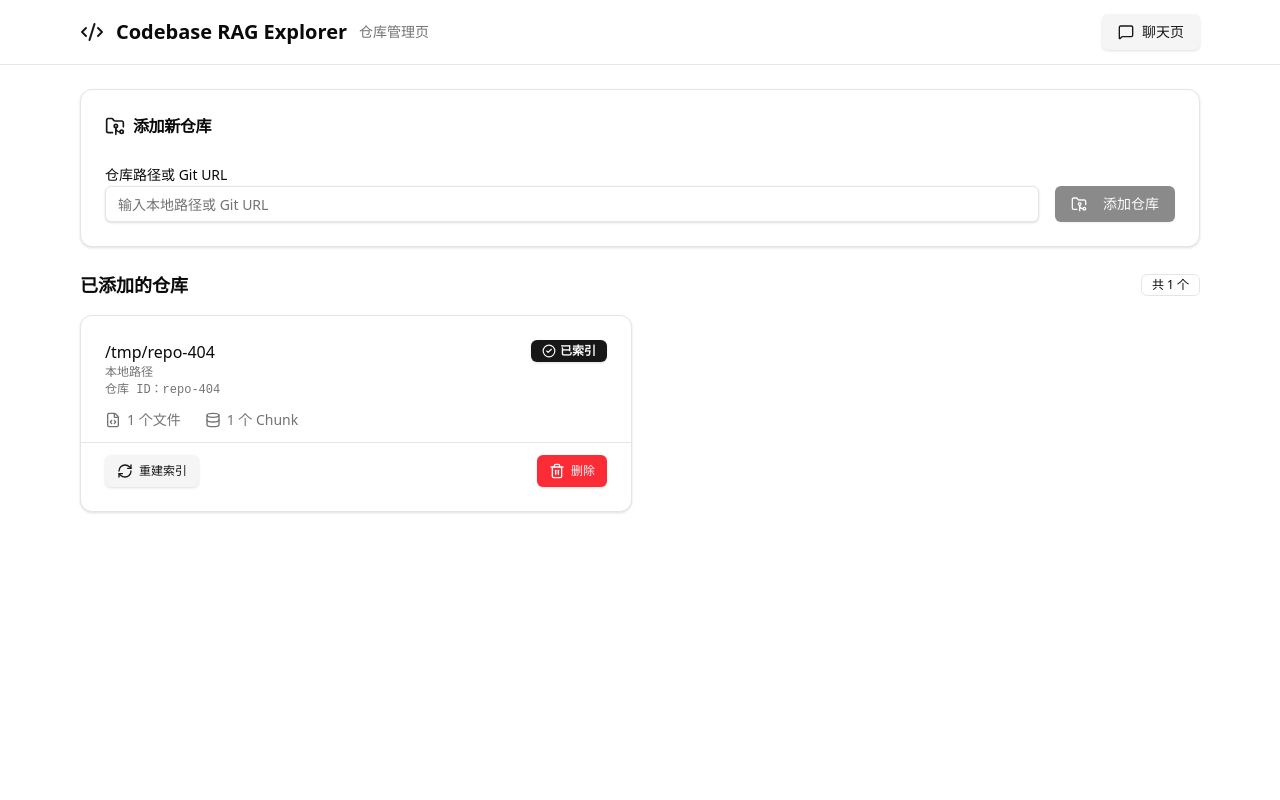
ReposPage › shows explicit message when deleting a non-existent repo
Expected: the text "/tmp/repo-404" is shown, [105,341,215,363]
Click the button with aria-label "删除仓库 repo-404" at (572, 471), box [537,455,607,487]
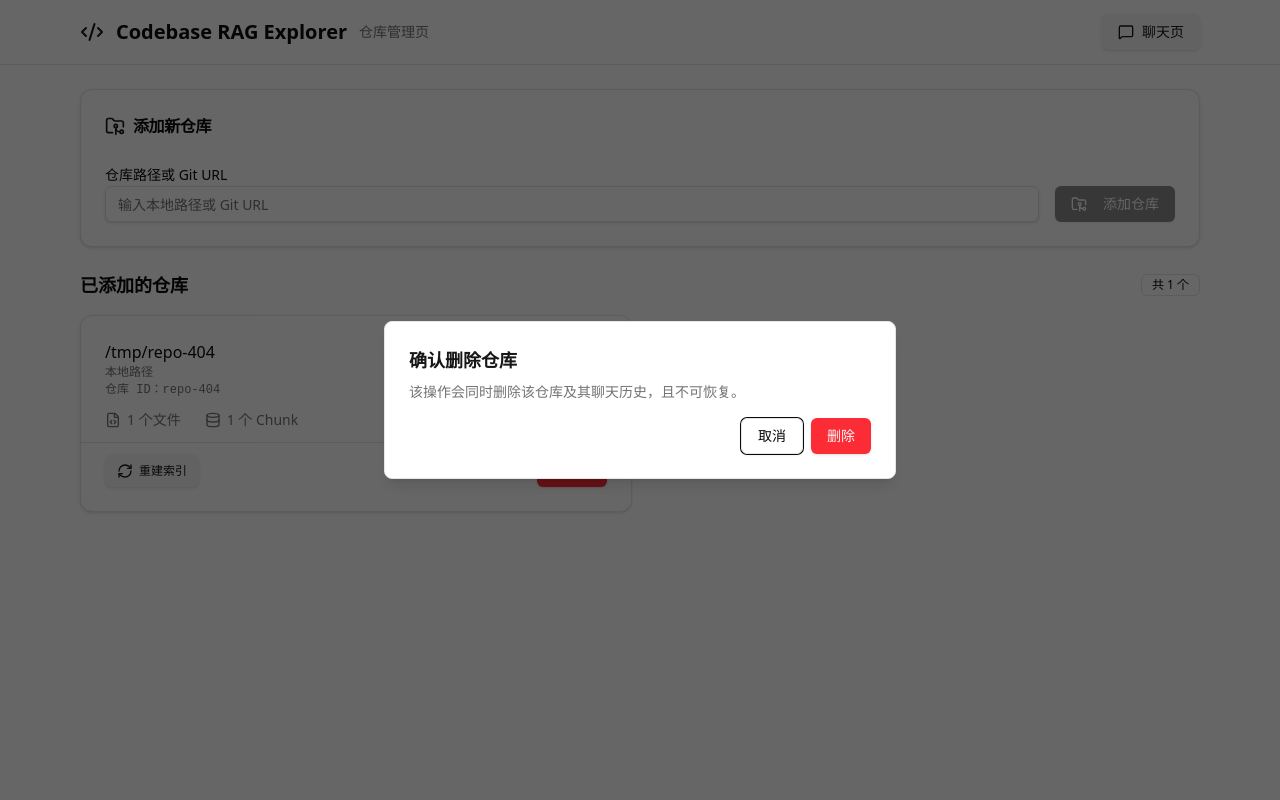
Now the dialog is shown, box [384,321,896,479]
Click the button "删除" at (841, 436), box [811,418,871,454]
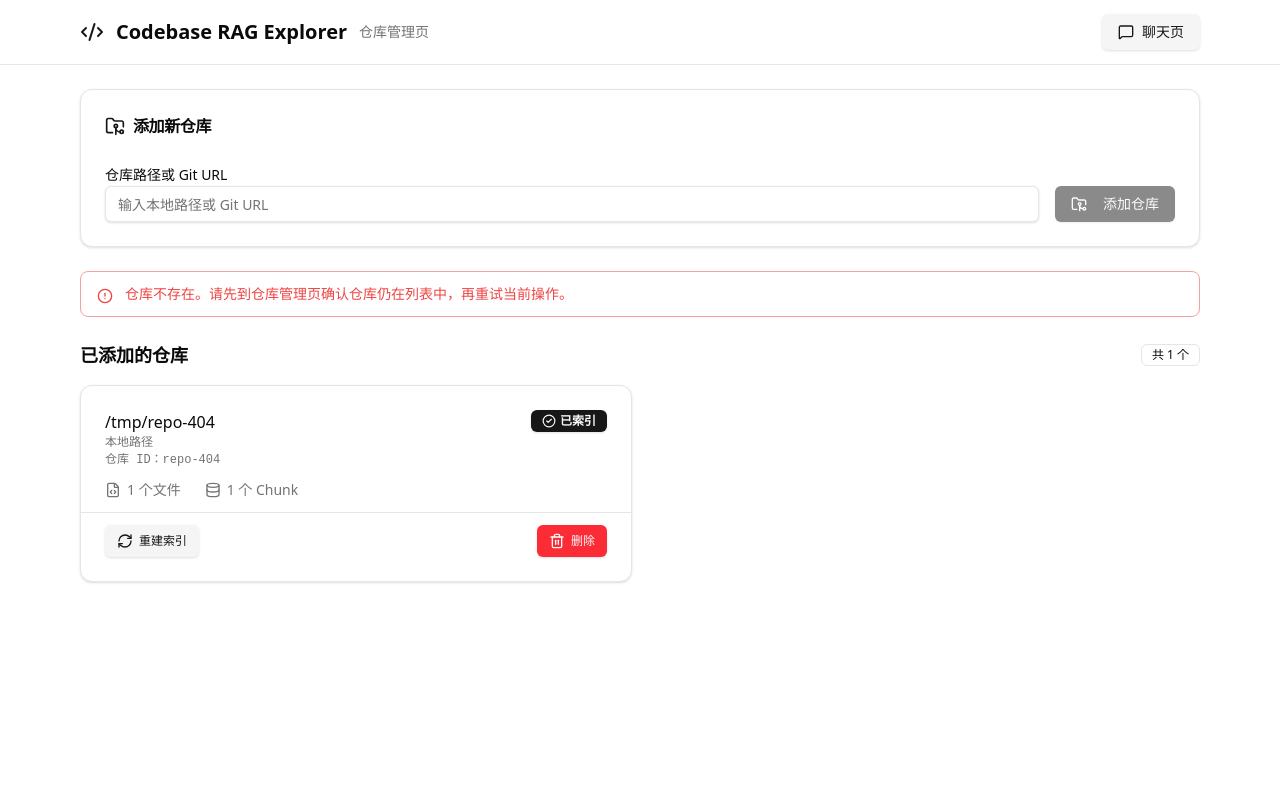
Now the text "仓库不存在。请先到仓库管理页确认仓库仍在列表中，再重试当前操作。" is shown, box [125,284,573,303]
